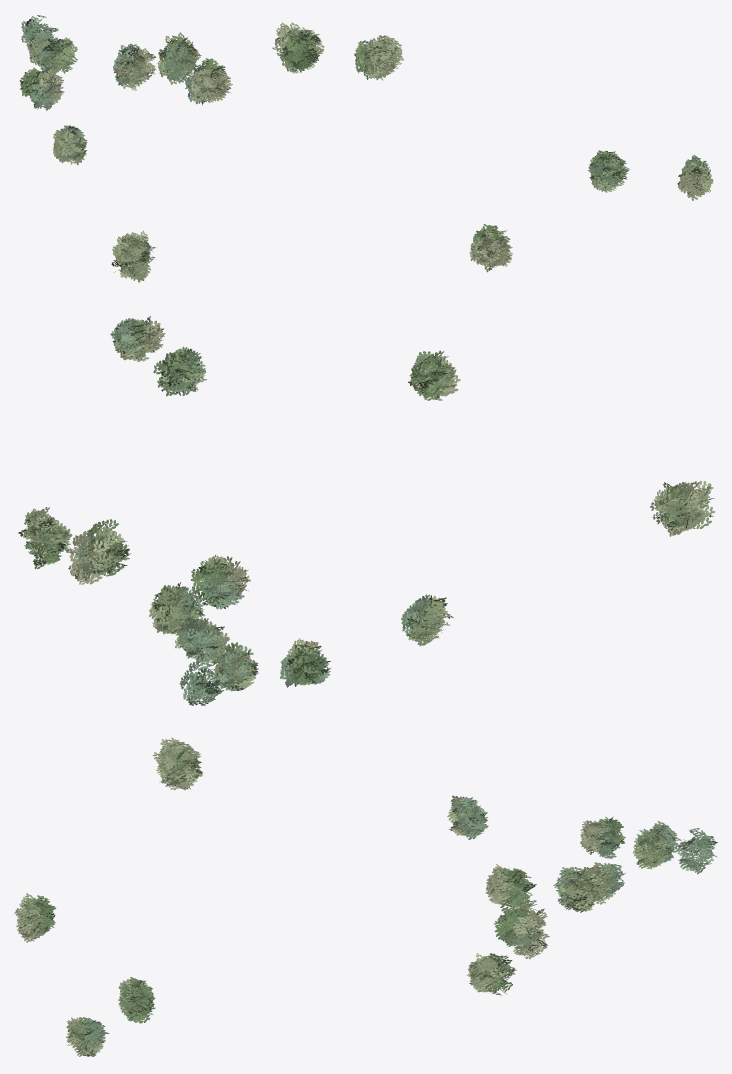
The model's file is campus-tree--1_-3-middle.glb.
3 views of the same model, one above another, from view 1: azimuth 30°, elevation 25°; view 2: azimuth 150°, elevation 25°; view 3: azimuth 270°, elevation 25° (orthographic). The views are drawn at different scales.
Visible parts, largest first — view 1: Campus leaf canopy; view 2: Campus leaf canopy; view 3: Campus leaf canopy.
Boxes of the visible parts, box(x1,y1,x2,y2) form: Campus leaf canopy: box(19, 15, 713, 282); Campus leaf canopy: box(18, 316, 715, 705); Campus leaf canopy: box(14, 737, 717, 1056).
Bounding box in the file's own units: 68.76 × 7.42 × 73.53.
Materials: 1 (1 with a texture image).
